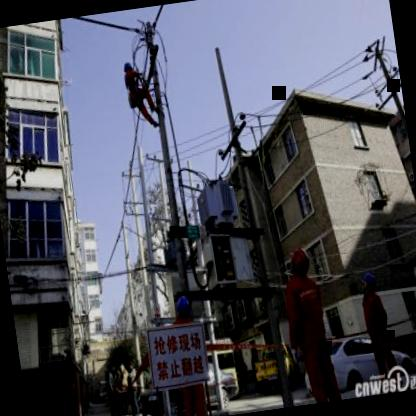helmet: (286, 243, 314, 284), (173, 294, 194, 329), (359, 267, 377, 299), (122, 58, 136, 80)
